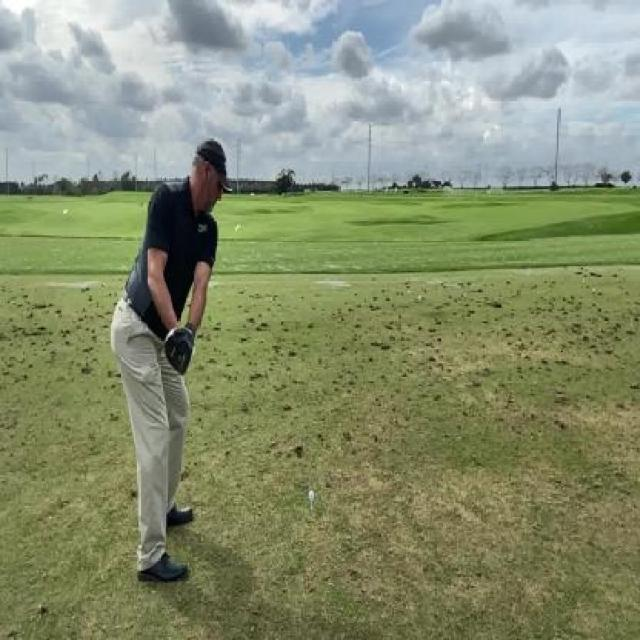club head: (163, 324, 194, 376)
